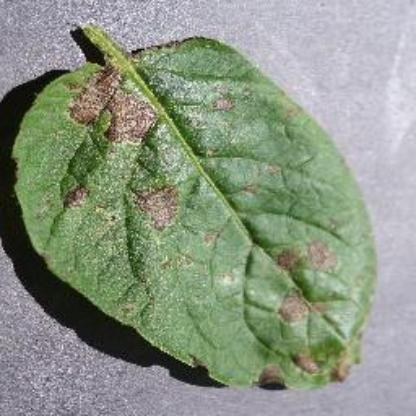Early-Blight: (12, 14, 378, 392)
